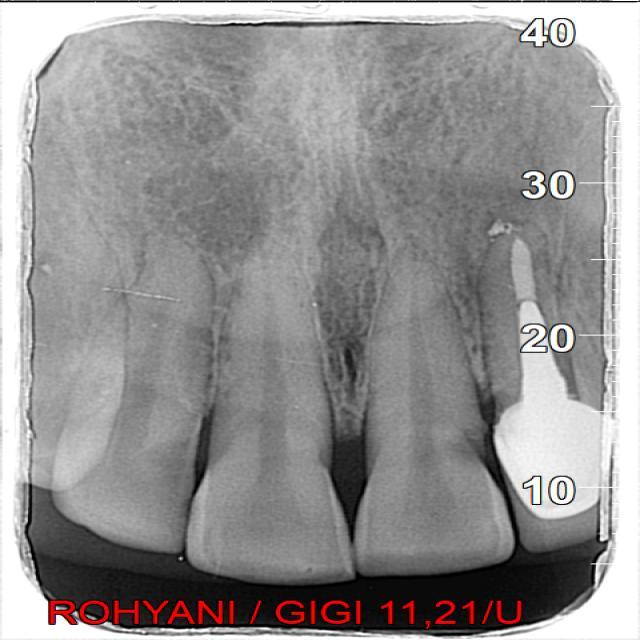individual-tooth-8tto: (191, 244, 357, 587), (42, 228, 212, 552), (349, 240, 510, 582)
